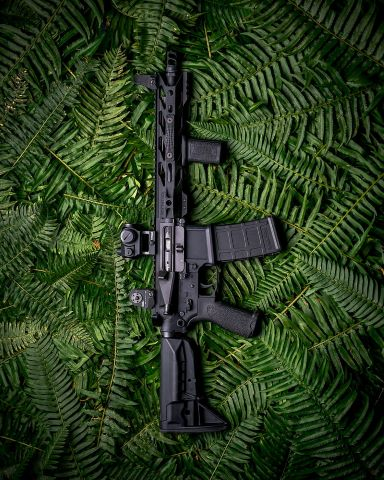rifle: (113, 45, 284, 439)
